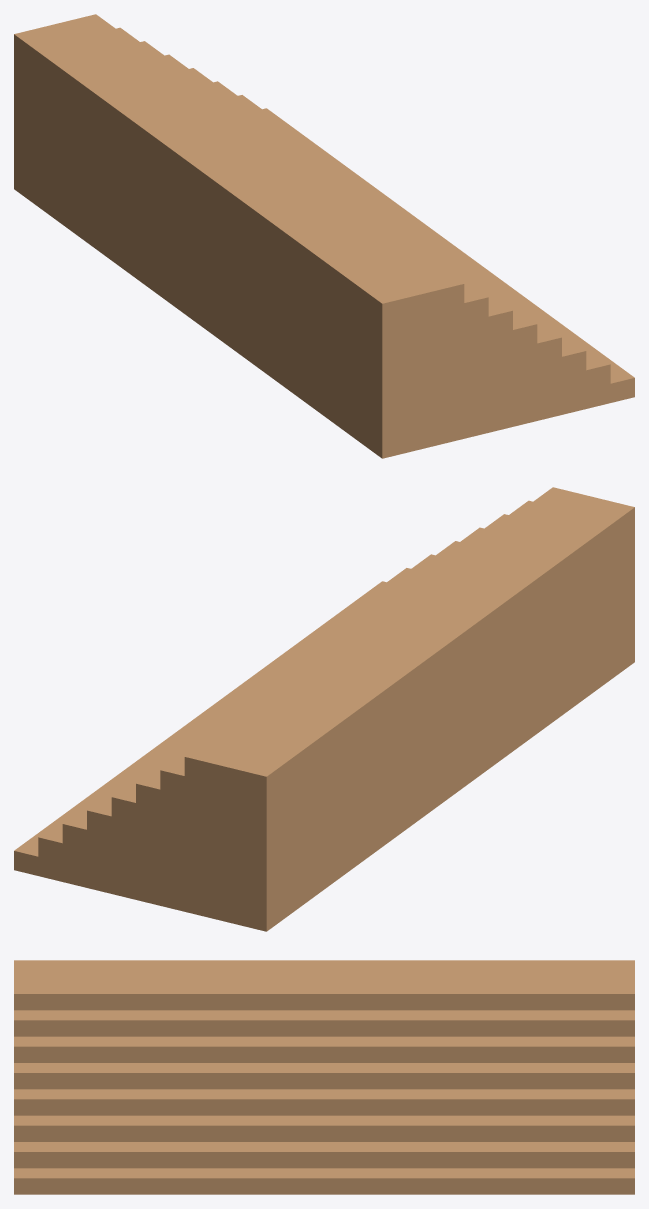
File: gradas.fbx
3 views of the same model, one above another, from view 1: azimuth 30°, elevation 25°; view 2: azimuth 150°, elevation 25°; view 3: azimuth 270°, elevation 25° (orthographic). The views are drawn at different scales.
Parts seen in each view (by area): view 1: Cubo; view 2: Cubo; view 3: Cubo.
Part boxes in pixels (box(x1,y1,x2,y2)): Cubo: box(14, 14, 634, 458); Cubo: box(14, 487, 634, 931); Cubo: box(14, 960, 634, 1194).
Size of the model in its own units: 170 by 99.44 by 428.
